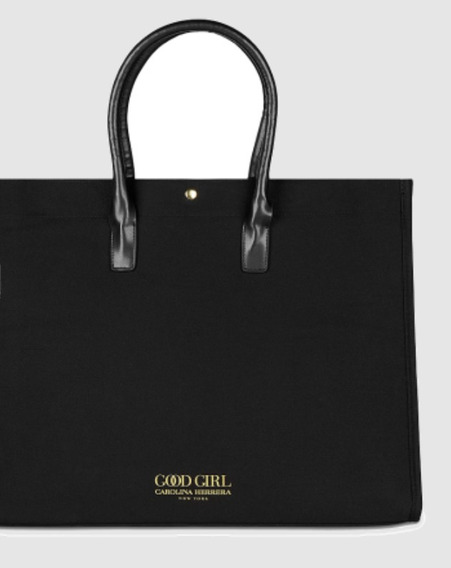cartera: (3, 18, 426, 531)
